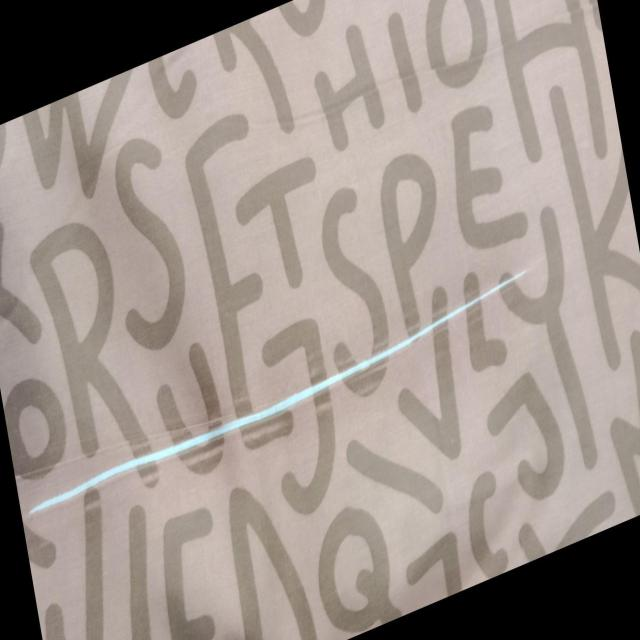selvet: (20, 270, 534, 528)
